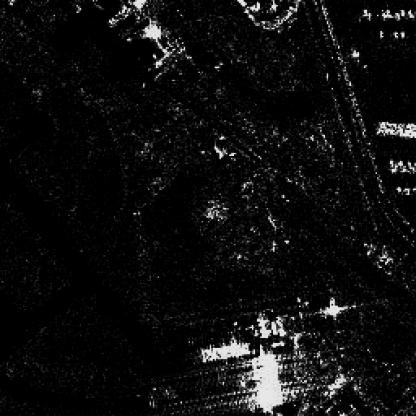airplane: (380, 8, 390, 16), (392, 12, 402, 20), (406, 8, 413, 18), (403, 187, 409, 197), (362, 6, 368, 14), (351, 49, 359, 55), (400, 8, 406, 16), (395, 185, 401, 192), (377, 30, 382, 38), (392, 31, 398, 37), (400, 31, 404, 37)
